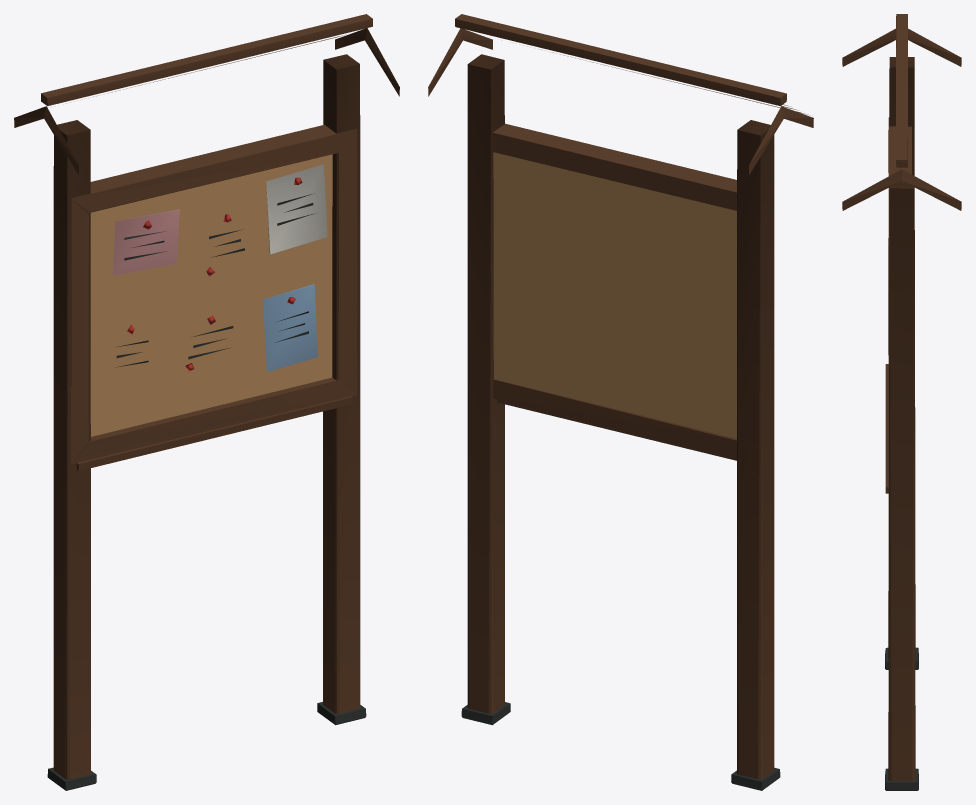
Rendered from noticeBoard.far.glb.
3 views of the same model, side by side, from view 1: azimuth 30°, elevation 25°; view 2: azimuth 150°, elevation 25°; view 3: azimuth 270°, elevation 25° (orthographic). The views are drawn at different scales.
Visible parts, largest first — view 1: noticeBoard_far; view 2: noticeBoard_far; view 3: noticeBoard_far.
Boxes of the visible parts, <box> form: noticeBoard_far: <box>14,14,399,790</box>; noticeBoard_far: <box>428,14,813,790</box>; noticeBoard_far: <box>842,14,961,790</box>.
Size of the model in its own units: 1.02 by 2.06 by 0.3508.
